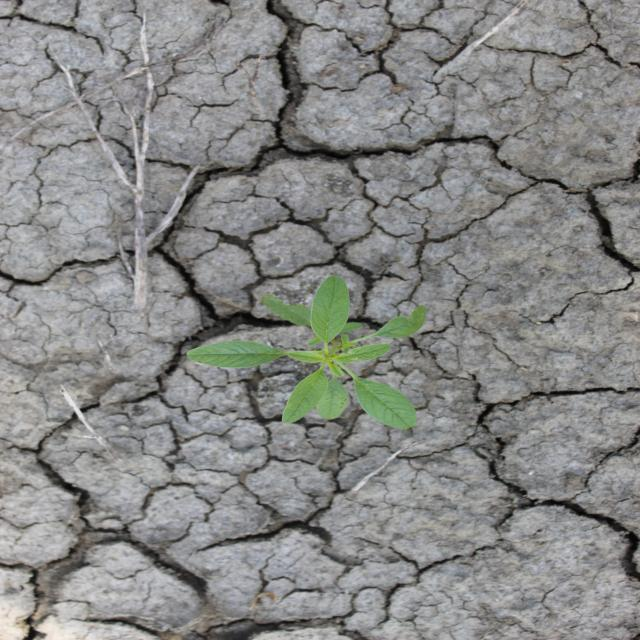Waterhemp: (184, 274, 430, 432)
